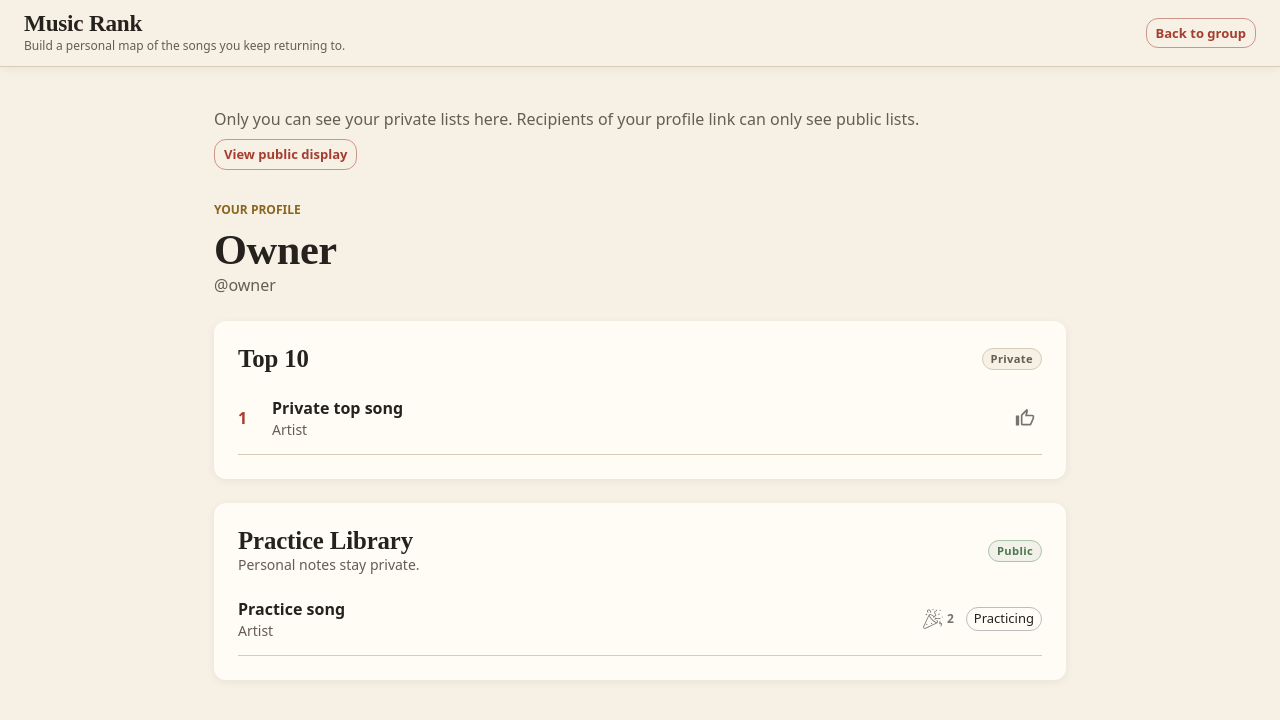
it: Profile owner view › previews only public lists and returns to the full owner view
Expected: the text "Private top song" is shown, left=272, top=397, right=403, bottom=419
Click the button "View public display": click(286, 154) left=214, top=139, right=357, bottom=170
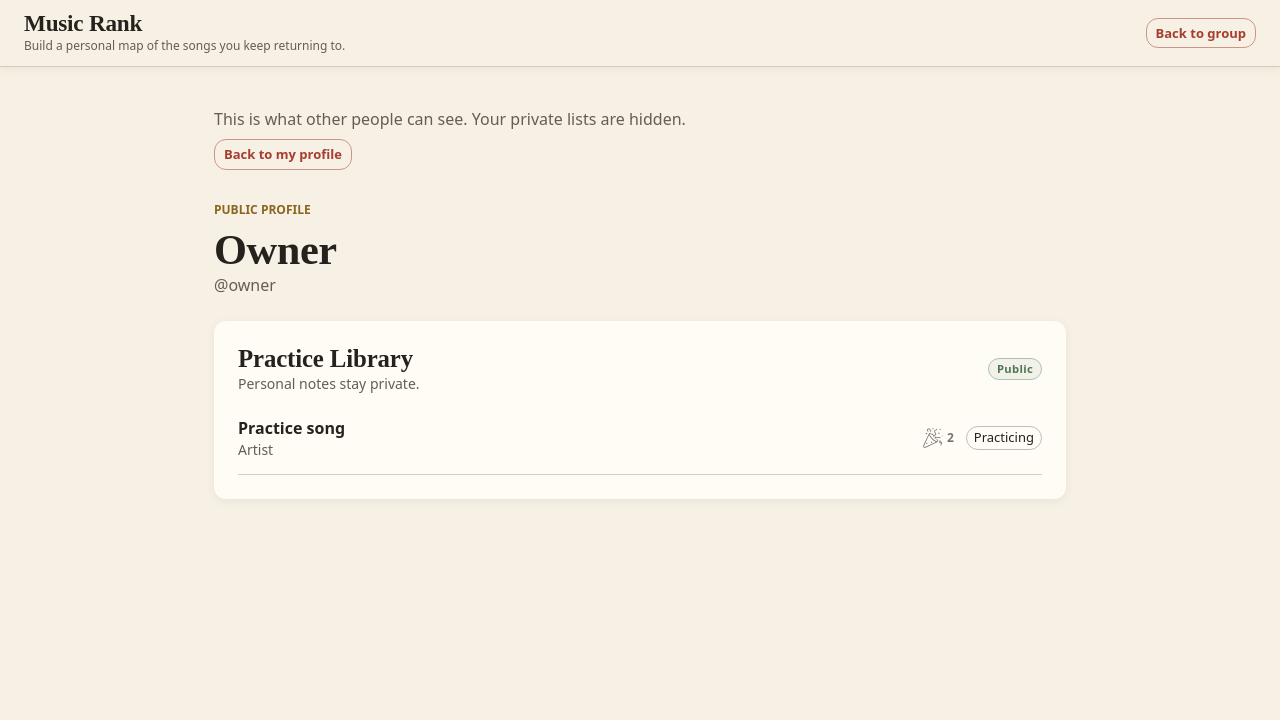
Expected: the text "Practice song" is shown, left=238, top=417, right=345, bottom=439
Now the text "This is what other people can see. Your private lists are hidden." is shown, box left=214, top=108, right=686, bottom=130
Now the heading "Top 10" is gone
Click the button "Back to my profile": click(283, 154) left=214, top=139, right=352, bottom=170
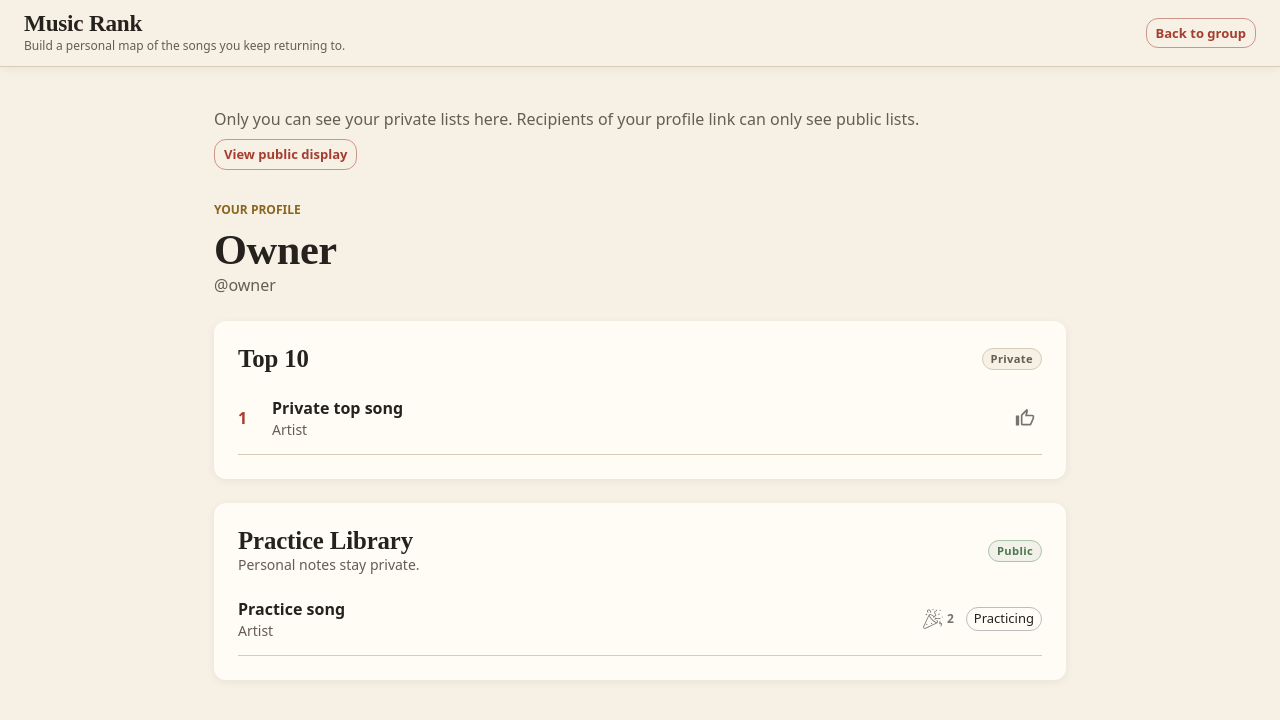
Now the text "Private top song" is shown, box left=272, top=397, right=403, bottom=419
